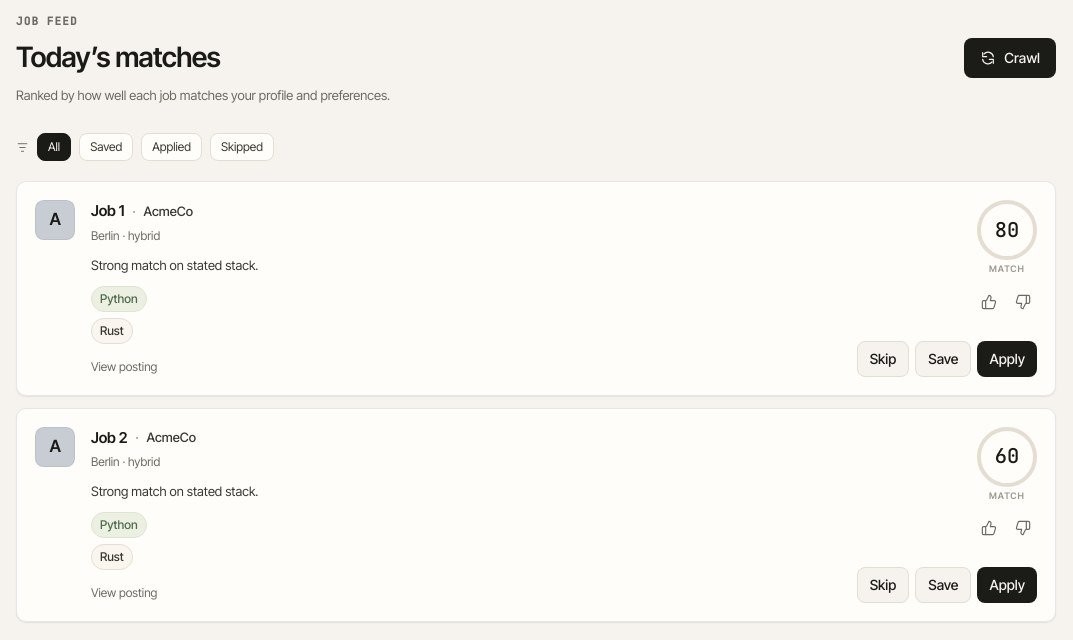
Scenario: FeedScreen › Saved filter only shows saved jobs
Expected: the element with test id "job-card-1" is shown, [16,181,1056,396]
Click the button "Saved".
click(106, 147)  # box [79,133,133,161]
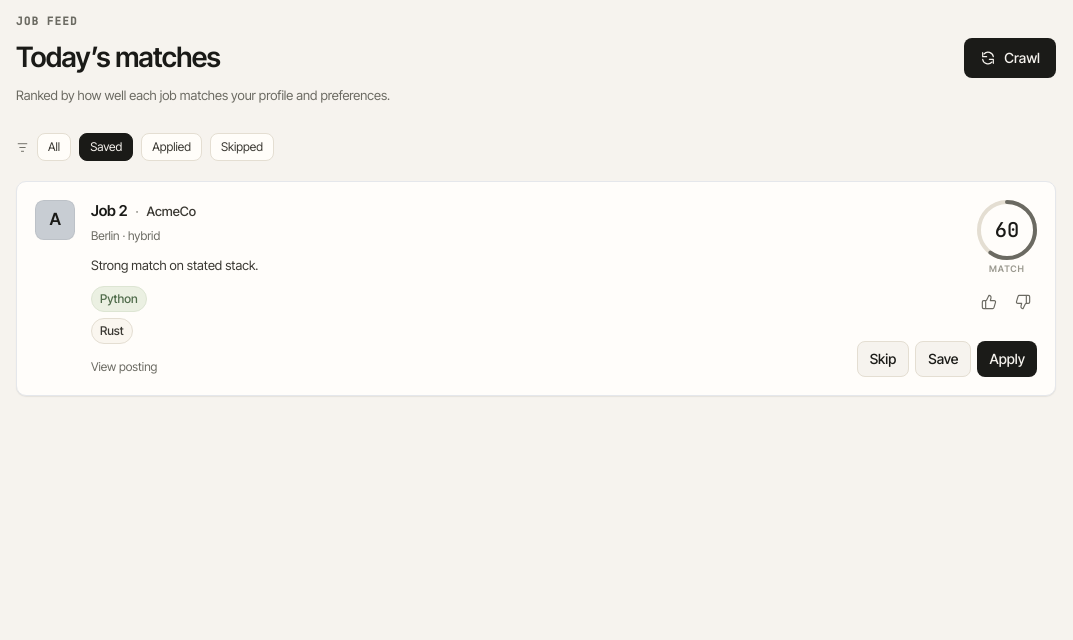
Expected: the element with test id "job-card-2" is shown, [16,181,1056,396]
Result: the element with test id "job-card-1" is gone
